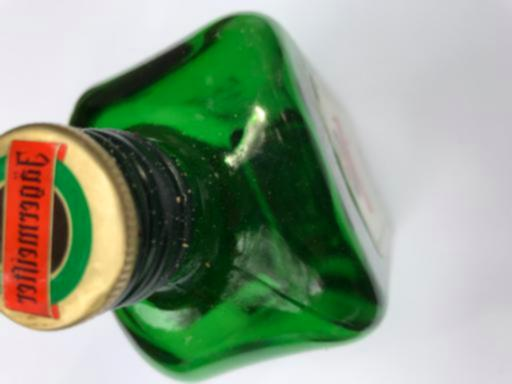alcohol: (0, 13, 392, 384)
glass: (0, 13, 392, 384)
sodocalcique: (0, 13, 392, 384)
